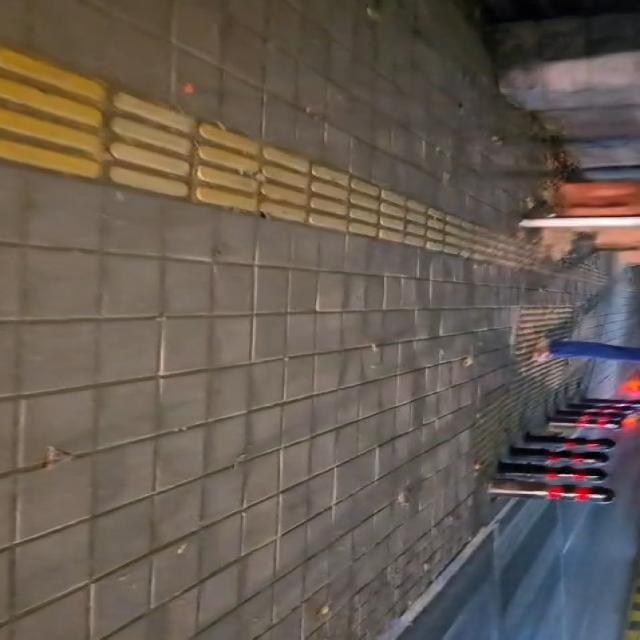bollard: (489, 479, 614, 503), (497, 463, 607, 482), (509, 447, 609, 465), (524, 434, 615, 451), (548, 412, 623, 429), (555, 408, 627, 419), (564, 403, 637, 413), (580, 399, 639, 408)
